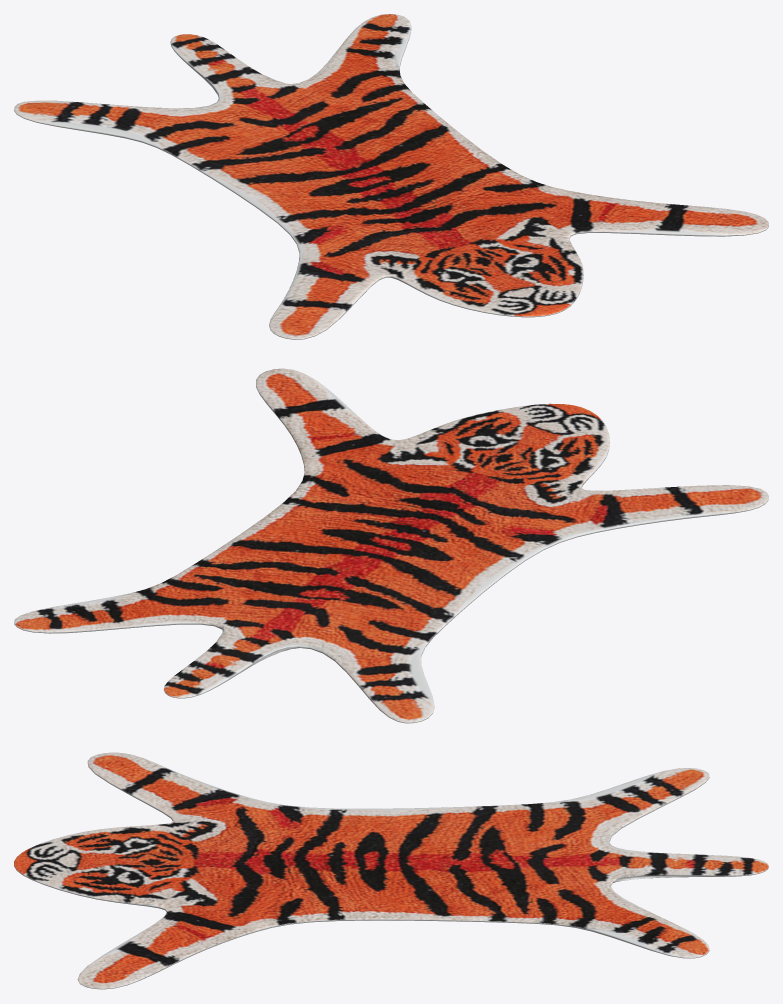
Rendered from MEGA_PACK_Carpet__carpet-horang_frame_orange_0000.glb.
3 renders of one model, top to bottom at view 1: azimuth 30°, elevation 25°; view 2: azimuth 150°, elevation 25°; view 3: azimuth 270°, elevation 25°, orthographic. The views are drawn at different scales.
Parts seen in each view (by area): view 1: carpet-horang_frame_orange_0000; view 2: carpet-horang_frame_orange_0000; view 3: carpet-horang_frame_orange_0000.
Part boxes in pixels (left/top/right/bottom): carpet-horang_frame_orange_0000: left=14, top=14, right=768, bottom=339; carpet-horang_frame_orange_0000: left=14, top=368, right=768, bottom=723; carpet-horang_frame_orange_0000: left=14, top=752, right=768, bottom=989.
Bounding box in the file's own units: 0.8795 × 0.00641 × 1.19.
1 material, 1 textured.
